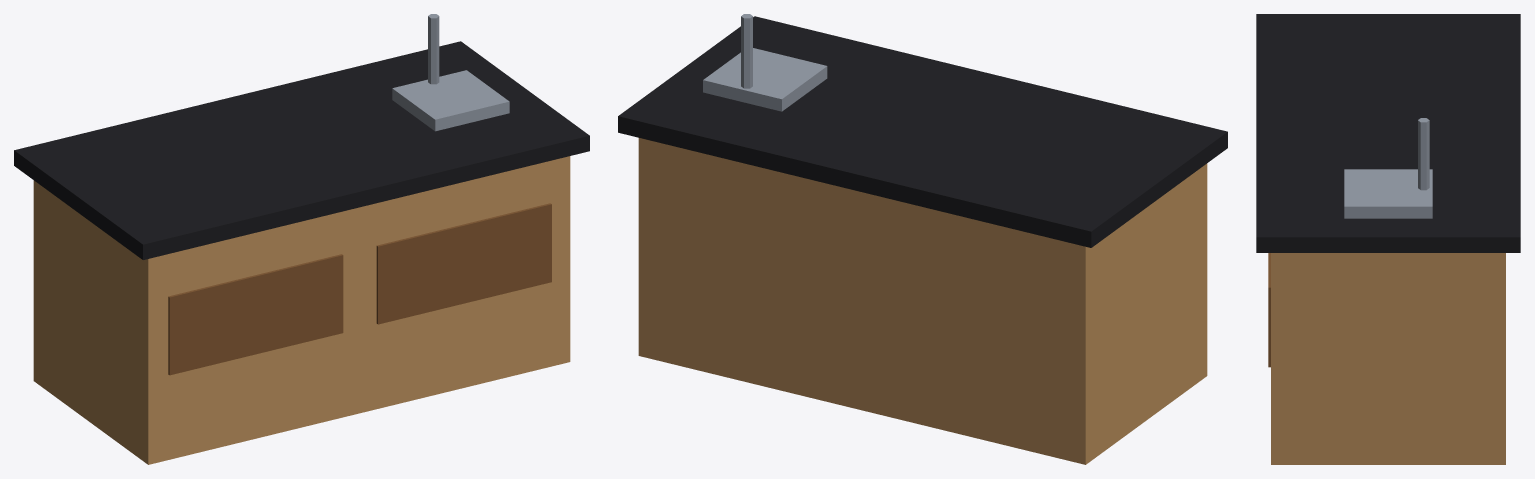
Rendered from p_labtable.glb.
3 views of the same model, side by side, from view 1: azimuth 30°, elevation 25°; view 2: azimuth 150°, elevation 25°; view 3: azimuth 270°, elevation 25° (orthographic). The views are drawn at different scales.
Visible parts, largest first — view 1: labtable; view 2: labtable; view 3: labtable.
Part boxes in pixels (<box>): labtable: <box>14,14,589,464</box>; labtable: <box>618,14,1227,464</box>; labtable: <box>1256,14,1520,464</box>.
Bounding box in the file's own units: 1.8 × 1.18 × 0.9.
